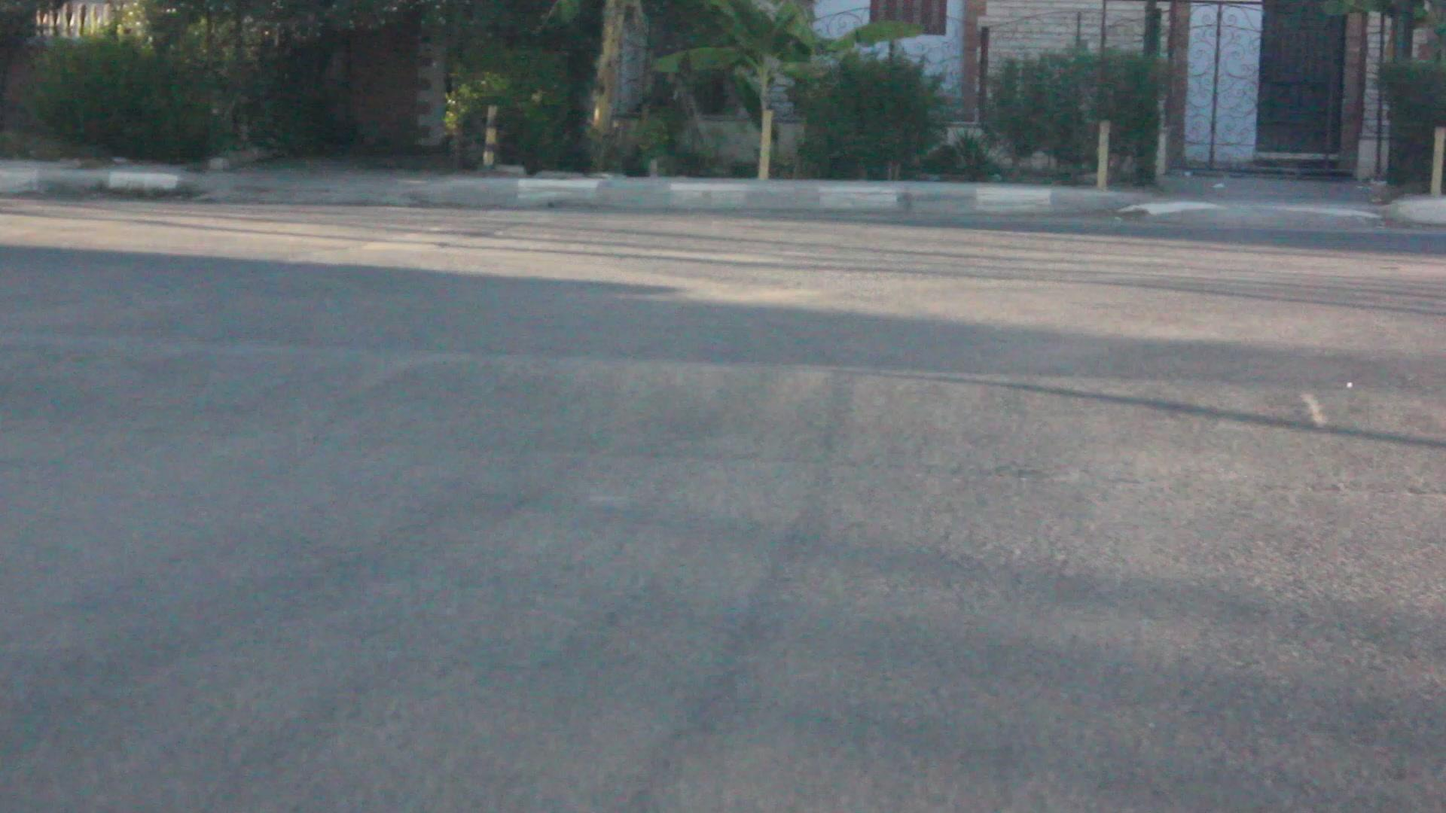Bump: (2, 333, 1446, 501)
